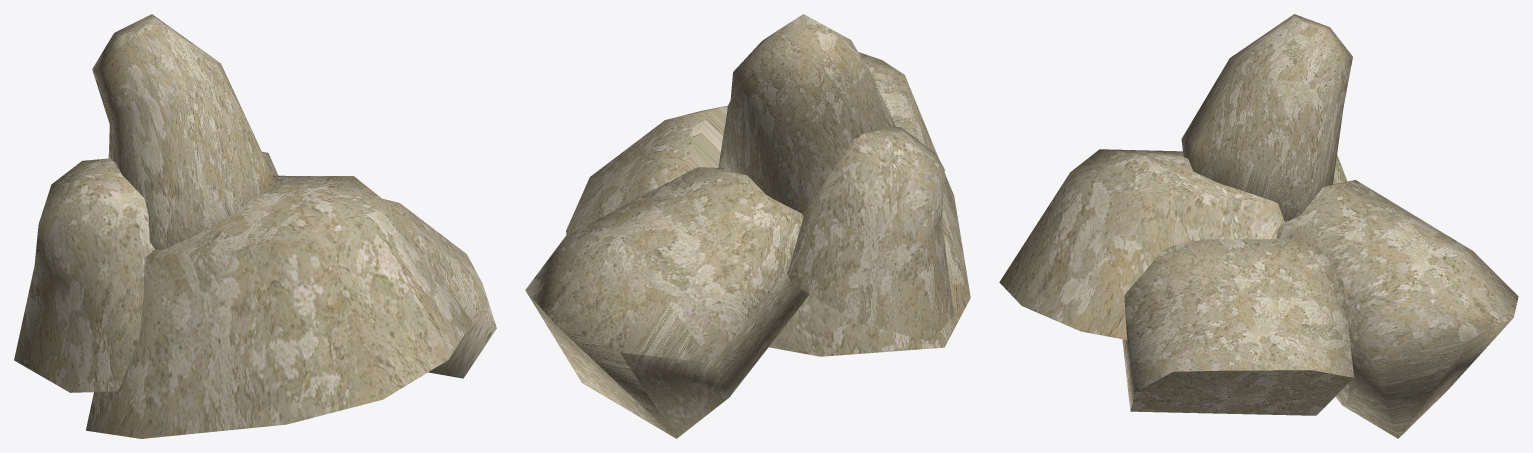
The model's file is rock_formation_l1.fbx.
The picture shows the model from 3 angles, left to right: view 1: azimuth 30°, elevation 25°; view 2: azimuth 150°, elevation 25°; view 3: azimuth 270°, elevation 25°; orthographic projection. The views are drawn at different scales.
Visible parts, largest first — view 1: mesh_node; view 2: mesh_node; view 3: mesh_node.
Boxes of the visible parts, x1=… form: mesh_node: x1=14, y1=14, x2=496, y2=438; mesh_node: x1=525, y1=14, x2=970, y2=438; mesh_node: x1=999, y1=14, x2=1518, y2=438.
Size of the model in its own units: 9.24 by 8.63 by 11.59.
